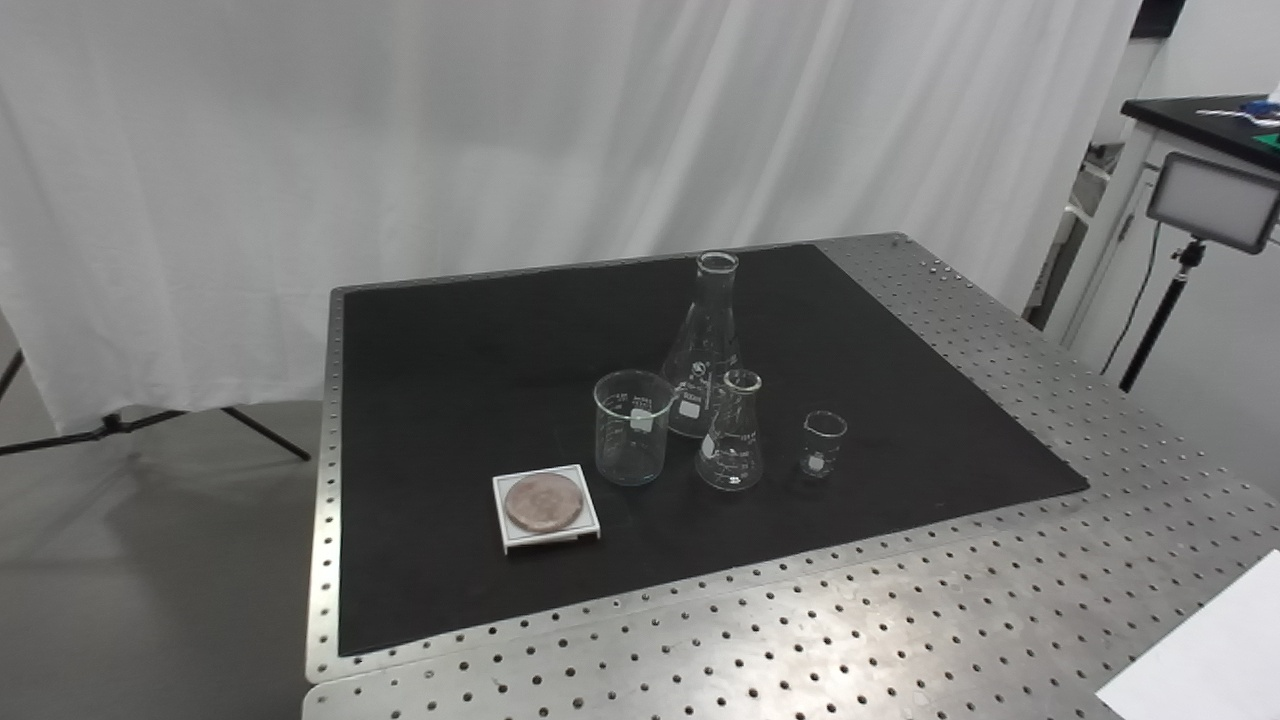glass: (655, 248, 746, 440), (590, 363, 679, 490), (695, 366, 764, 497), (797, 410, 849, 482)
plate: (487, 459, 604, 561)
